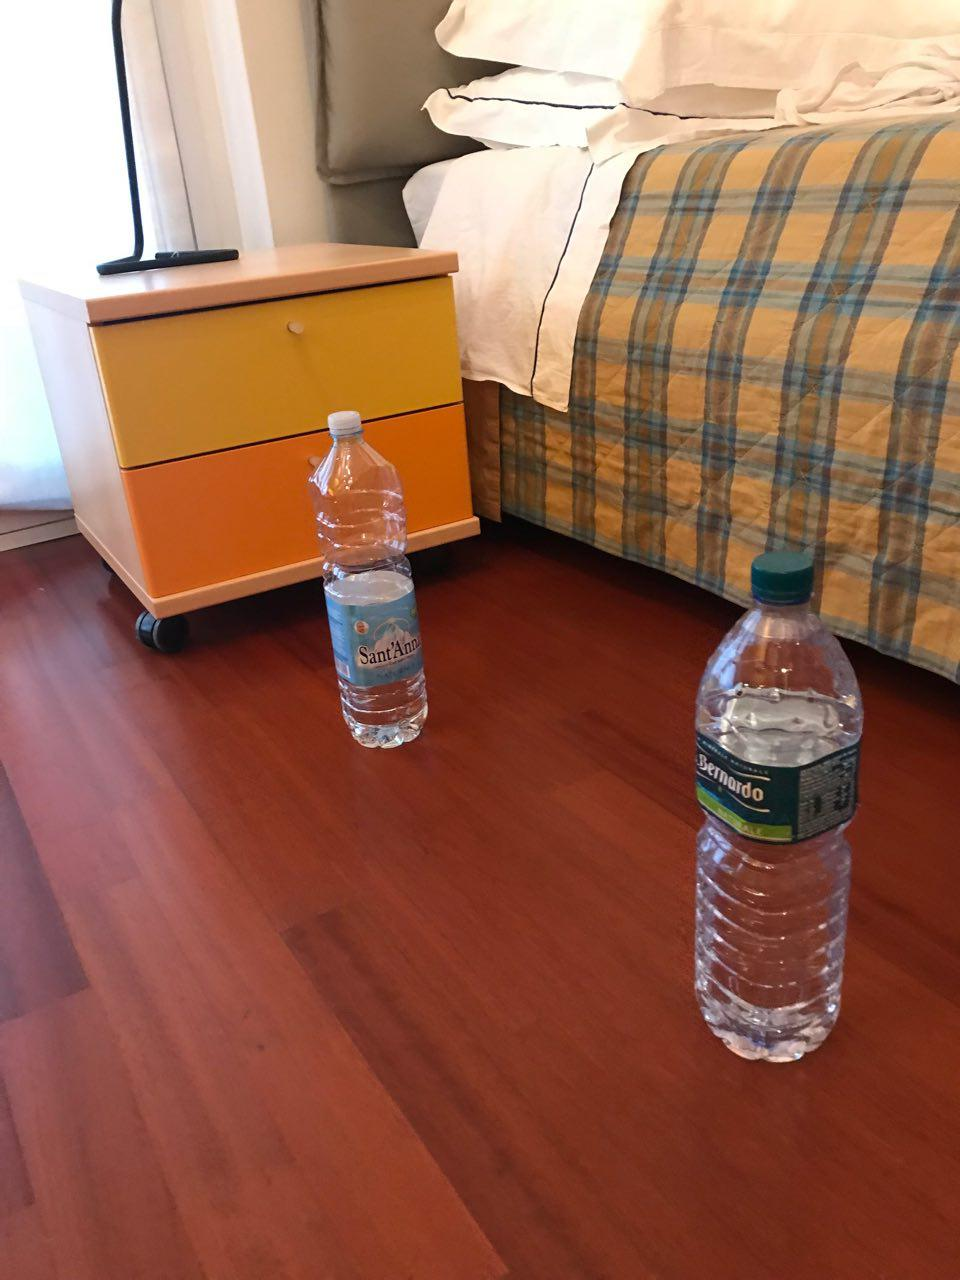san_bernardo: (691, 548, 866, 1066)
